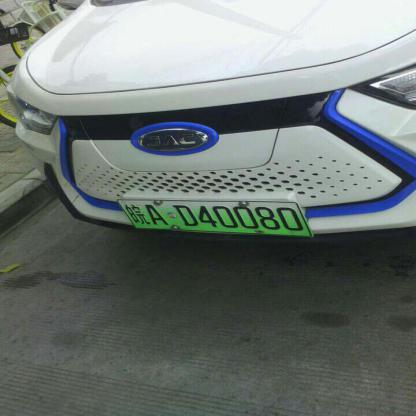lp: (117, 200, 310, 236)
